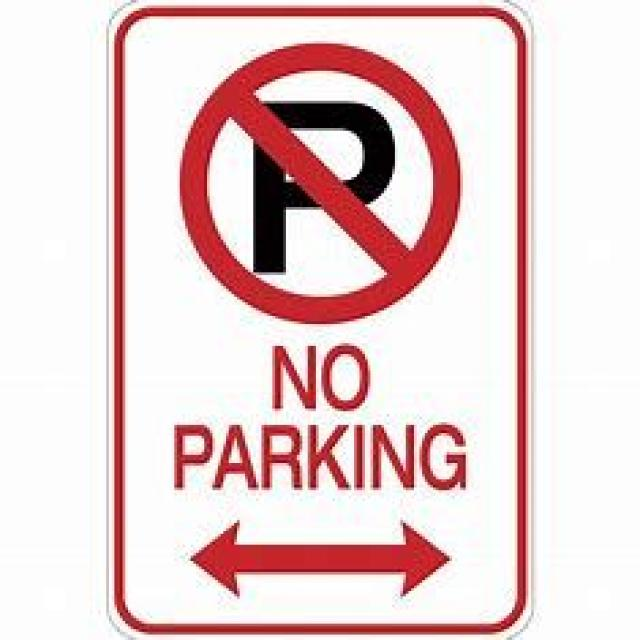do_not_enter: (180, 38, 460, 324)
